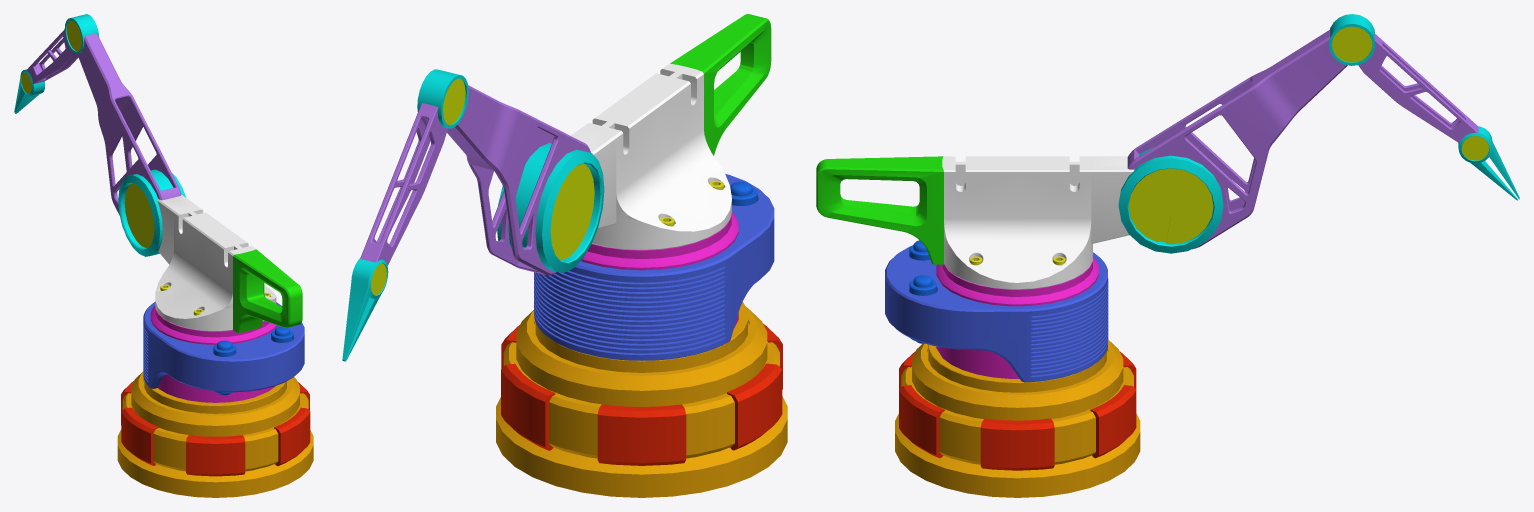
File: Armmachine.fbx
3 views of the same model, side by side, from view 1: azimuth 30°, elevation 25°; view 2: azimuth 150°, elevation 25°; view 3: azimuth 270°, elevation 25° (orthographic). The views are drawn at different scales.
Visible parts, largest first — view 1: Cylinder.026; view 2: Cylinder.026; view 3: Cylinder.026.
Part boxes in pixels (x1=…): Cylinder.026: x1=14, y1=14, x2=313, y2=497; Cylinder.026: x1=342, y1=14, x2=787, y2=497; Cylinder.026: x1=816, y1=14, x2=1519, y2=497.
Bounding box in the file's own units: 1.71 × 3.27 × 4.88.
